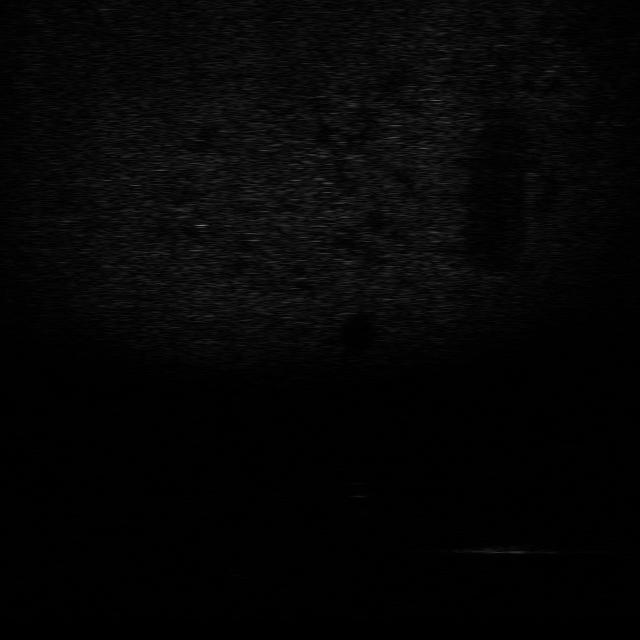ball: (340, 476, 380, 502)
metal bucket: (452, 537, 558, 558)
tyre: (226, 549, 284, 584)
